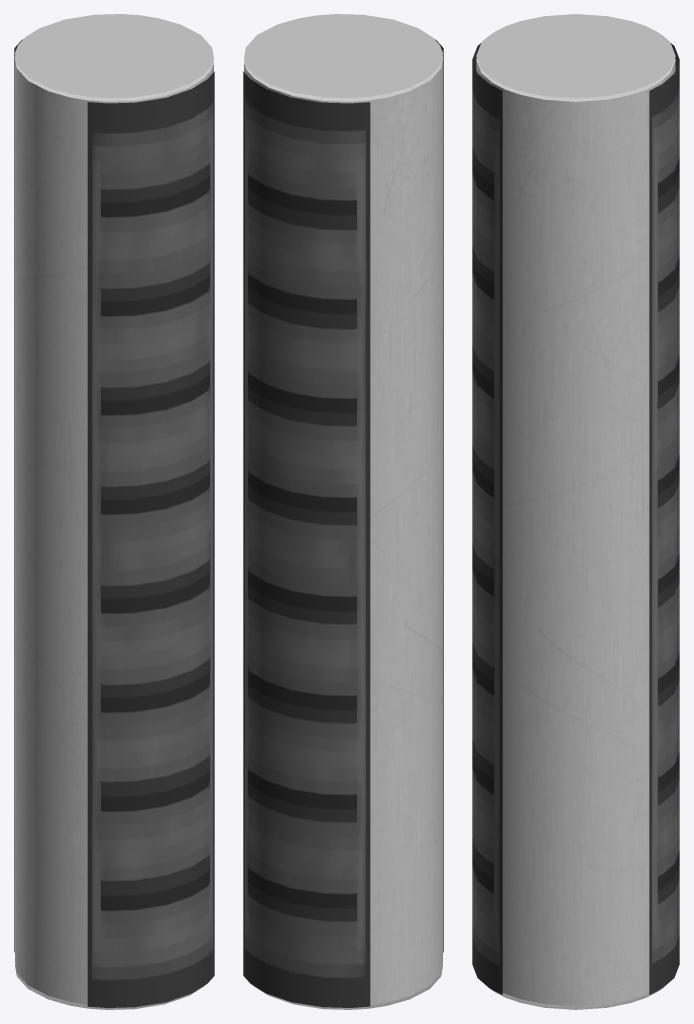
Rendered from gun.obj.
3 renders of one model, left to right at view 1: azimuth 30°, elevation 25°; view 2: azimuth 150°, elevation 25°; view 3: azimuth 270°, elevation 25°, orthographic.
Visible parts, largest first — view 1: Gun5, Gun1, Gun2, Gun4, Gun3; view 2: Gun4, Gun1, Gun2, Gun5, Gun3; view 3: Gun1, Gun4, Gun5, Gun2, Gun3.
Part boxes in pixels (x1=…): Gun5: x1=87, y1=71, x2=214, y2=1007; Gun1: x1=15, y1=56, x2=213, y2=1004; Gun2: x1=15, y1=14, x2=213, y2=97; Gun4: x1=14, y1=39, x2=22, y2=952; Gun3: x1=15, y1=964, x2=204, y2=1009; Gun4: x1=243, y1=71, x2=370, y2=1007; Gun1: x1=244, y1=56, x2=442, y2=1004; Gun2: x1=244, y1=14, x2=442, y2=97; Gun5: x1=435, y1=39, x2=443, y2=952; Gun3: x1=253, y1=964, x2=442, y2=1009; Gun1: x1=476, y1=58, x2=675, y2=1006; Gun4: x1=649, y1=36, x2=679, y2=994; Gun5: x1=472, y1=36, x2=502, y2=994; Gun2: x1=476, y1=14, x2=675, y2=98; Gun3: x1=491, y1=989, x2=660, y2=1009.
Size of the model in its own units: 1 by 5.04 by 1.04.
